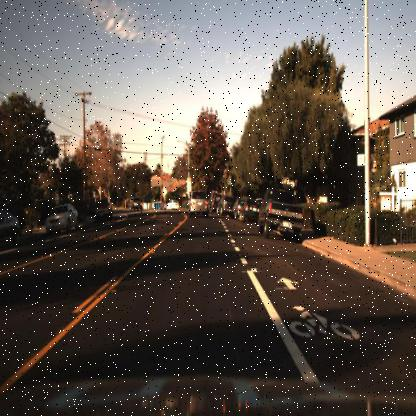car: (256, 188, 305, 242), (39, 198, 83, 238), (44, 202, 80, 234), (185, 191, 208, 222), (238, 195, 260, 226), (93, 195, 113, 223), (125, 195, 142, 214), (163, 197, 179, 212)
